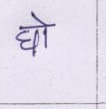o_matra: (39, 16, 50, 48)
